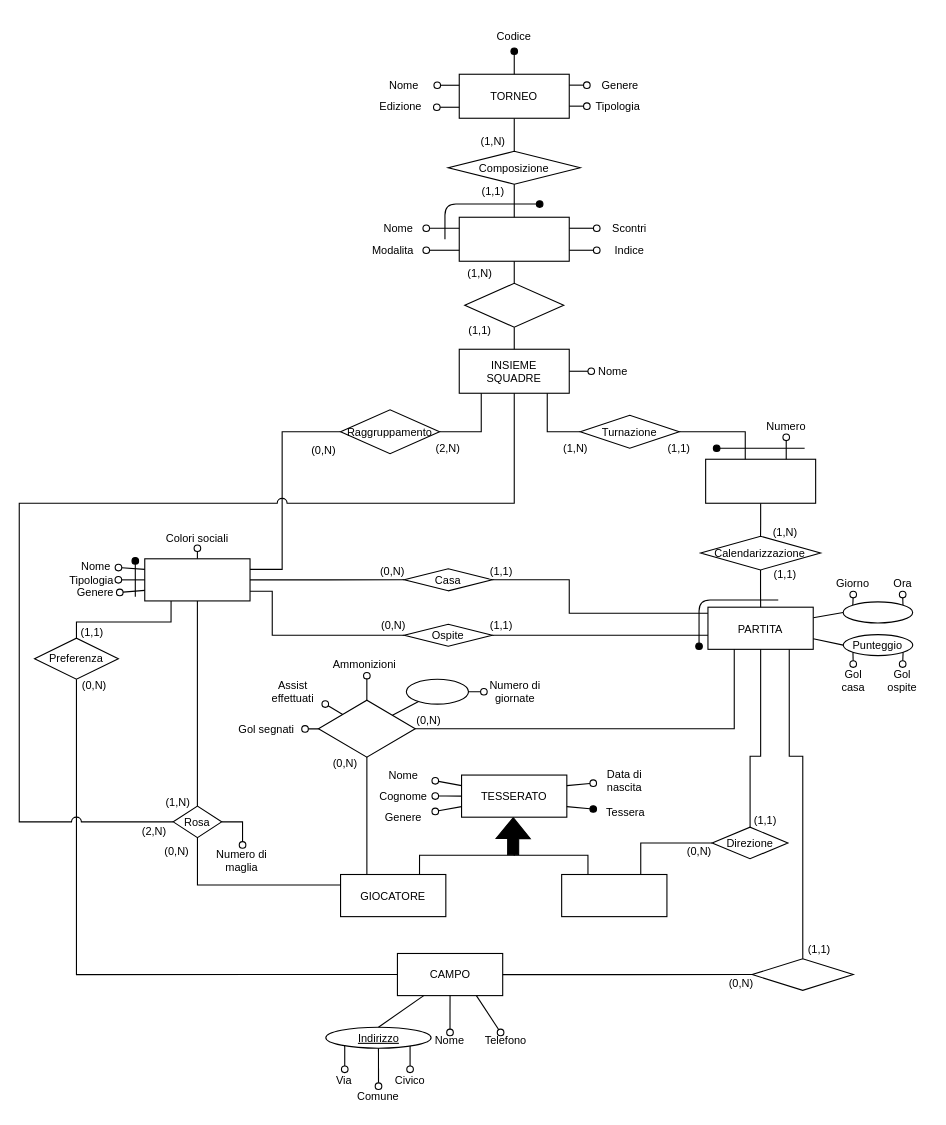
Image size: 946x1125. Some labels were removed from this diagram. Here are the shapes that lost their labels. From the top down, the centre of each, then its label:
At (x=513, y=238): "FASE".
At (x=514, y=304): "Partecipazione".
At (x=760, y=480): "GIORNATA".
At (x=197, y=579): "SQUADRA".
At (x=877, y=612): "Data".
At (x=436, y=691): "Espulsioni".
At (x=366, y=728): "Statistiche".
At (x=614, y=895): "ARBITRO".
At (x=802, y=974): "Collocazione".
